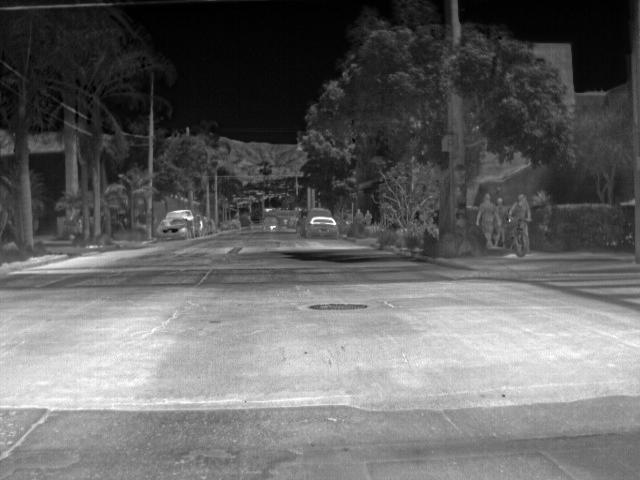car: (154, 218, 189, 244), (304, 216, 340, 241), (168, 209, 198, 235)
person: (508, 195, 534, 255), (474, 190, 494, 250), (492, 195, 509, 249), (362, 208, 376, 226), (352, 206, 364, 225)
